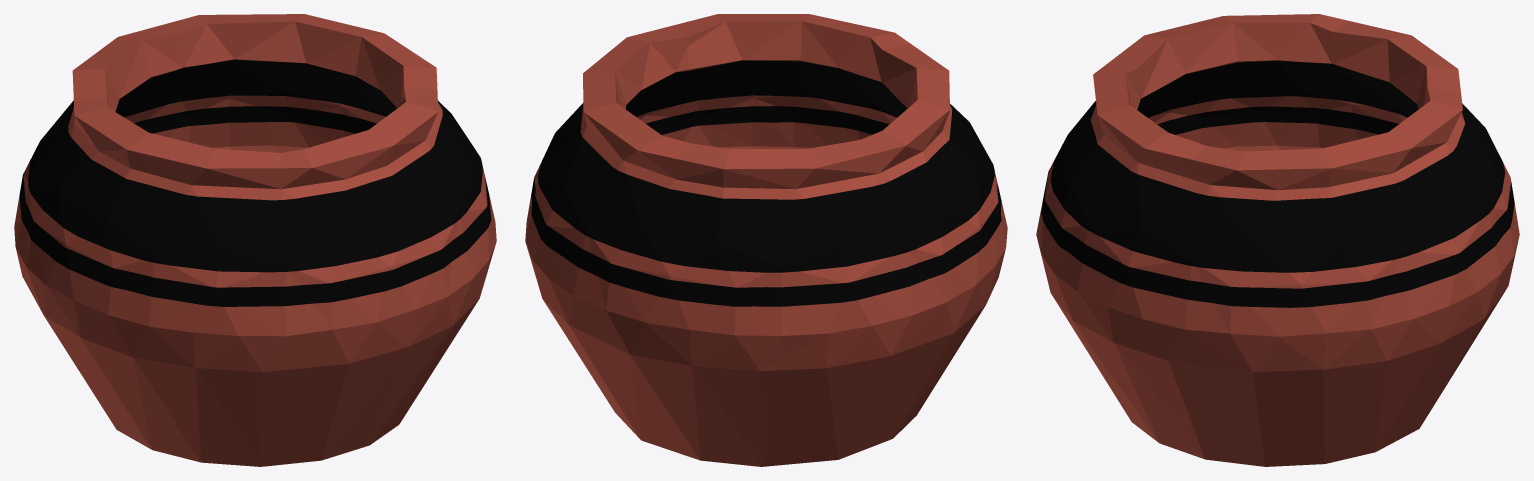
The model's file is Pottery 11_1b.fbx.
3 views of the same model, side by side, from view 1: azimuth 30°, elevation 25°; view 2: azimuth 150°, elevation 25°; view 3: azimuth 270°, elevation 25° (orthographic).
Visible parts, largest first — view 1: Pottery 11_1b.003, Pottery 11_1b.005, Pottery 11_1b.004, Pottery 11_1b, Pottery 11_1b.001, Pottery 11_1b.002; view 2: Pottery 11_1b.001, Pottery 11_1b, Pottery 11_1b.003, Pottery 11_1b.005, Pottery 11_1b.004, Pottery 11_1b.002; view 3: Pottery 11_1b.002, Pottery 11_1b.004, Pottery 11_1b.003, Pottery 11_1b.005, Pottery 11_1b, Pottery 11_1b.001.
Boxes of the visible parts, <box> form: Pottery 11_1b.003: <box>14,99,285,413</box>; Pottery 11_1b.005: <box>238,88,496,390</box>; Pottery 11_1b.004: <box>163,14,385,152</box>; Pottery 11_1b: <box>79,300,478,466</box>; Pottery 11_1b.001: <box>40,25,189,142</box>; Pottery 11_1b.002: <box>355,33,496,239</box>; Pottery 11_1b.001: <box>606,140,878,370</box>; Pottery 11_1b: <box>543,285,950,466</box>; Pottery 11_1b.003: <box>844,43,1007,383</box>; Pottery 11_1b.005: <box>671,14,909,148</box>; Pottery 11_1b.004: <box>525,70,690,324</box>; Pottery 11_1b.002: <box>583,26,689,139</box>; Pottery 11_1b.002: <box>1142,146,1387,426</box>; Pottery 11_1b.004: <box>1323,89,1514,360</box>; Pottery 11_1b.003: <box>1108,14,1402,151</box>; Pottery 11_1b.005: <box>1036,63,1207,342</box>; Pottery 11_1b: <box>1077,255,1514,466</box>; Pottery 11_1b.001: <box>1332,21,1519,278</box>.
Size of the model in its own units: 72.77 by 52.6 by 72.77.
